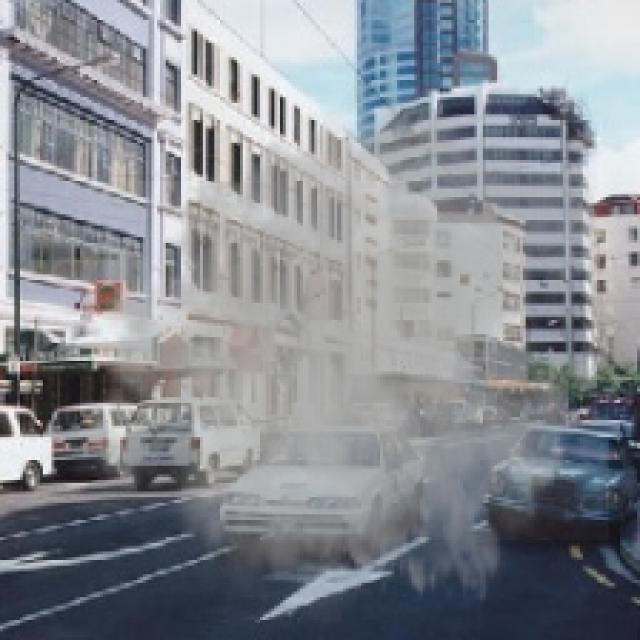Smoke: (69, 74, 612, 637)
